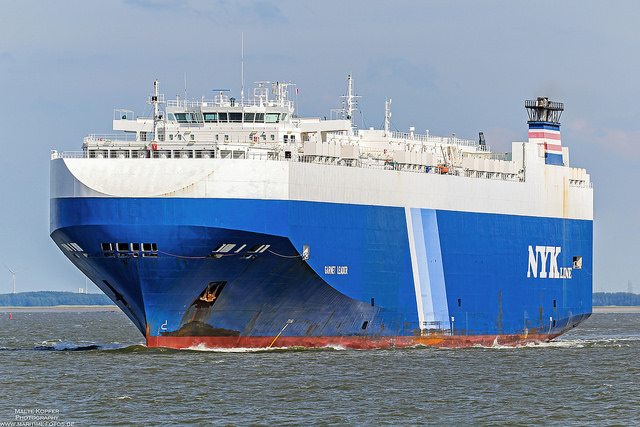PCC: (44, 65, 602, 351)
